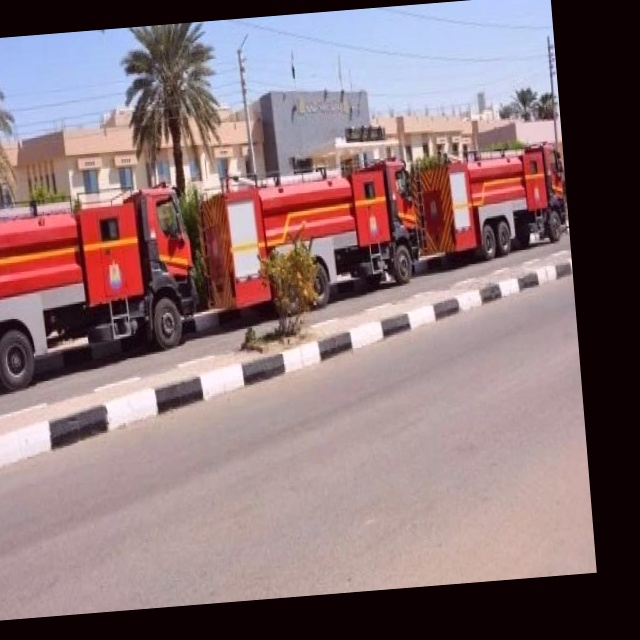Fire-truck: (0, 149, 209, 447), (198, 133, 438, 335), (423, 102, 572, 271)
